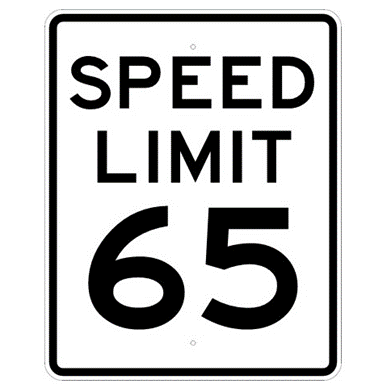speed limit: (42, 5, 335, 374)
